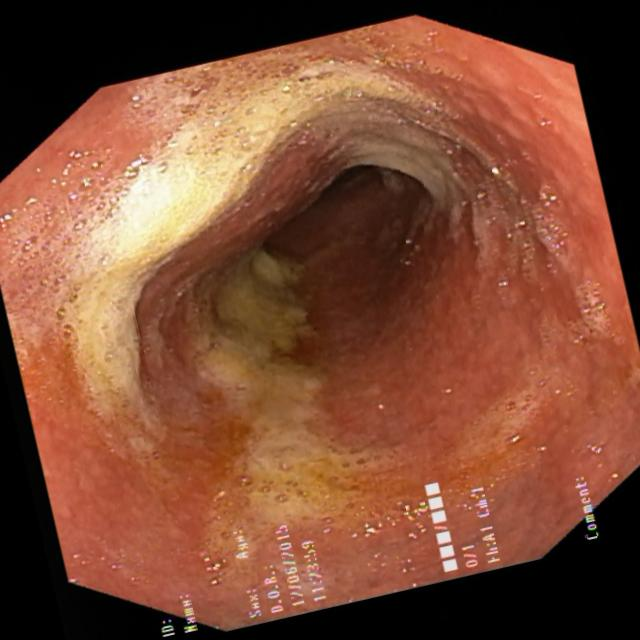ulcerative-colities: (58, 38, 540, 476), (168, 228, 559, 605)
